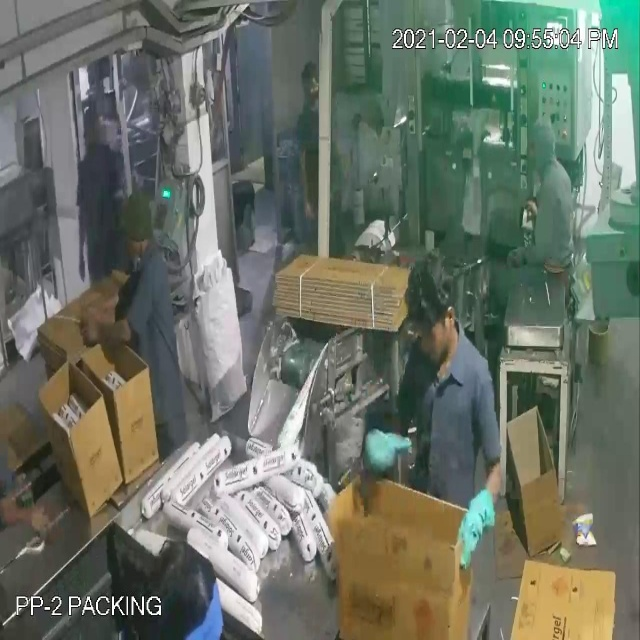Guantes: (457, 468, 492, 588), (363, 420, 403, 490)
Sin_guantes: (0, 486, 71, 572), (68, 295, 148, 364), (498, 237, 544, 271)
